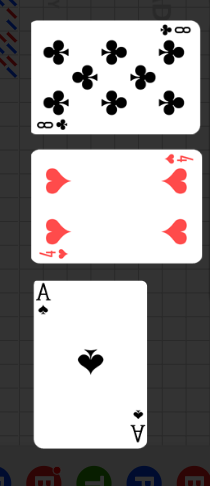8C: (157, 23, 192, 38)
AS: (128, 407, 145, 444), (36, 283, 53, 318)
